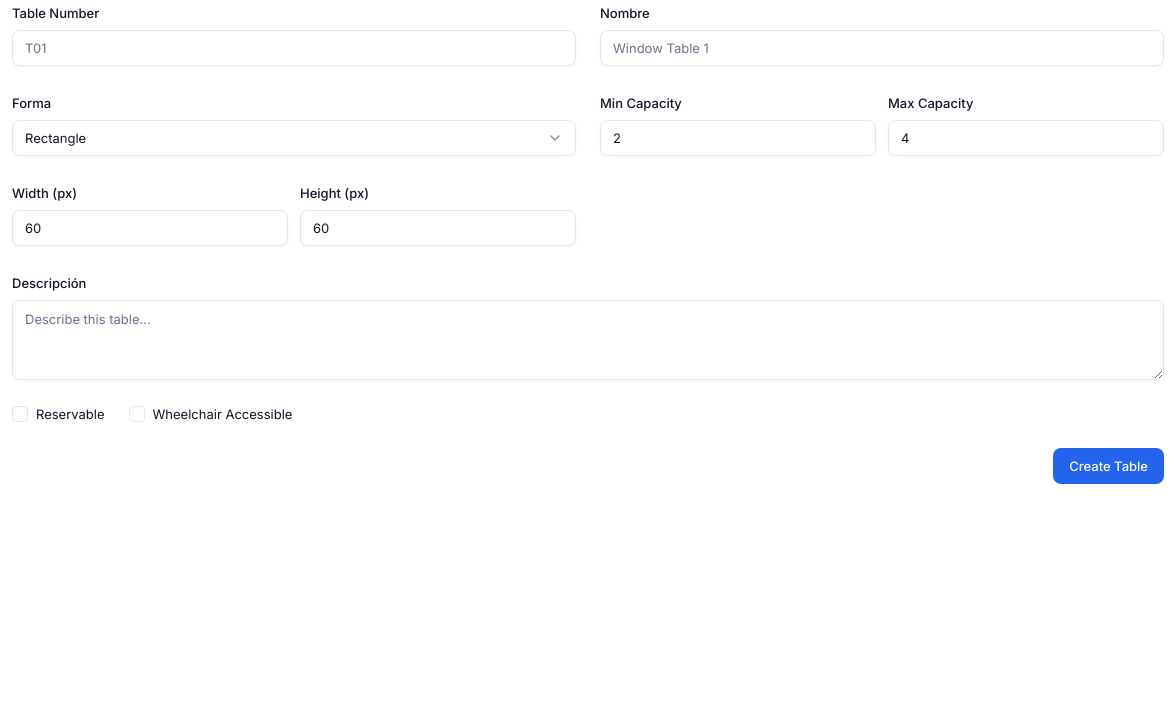
Scenario: TableForm › shows validation errors for required fields
The width and height of the screenshot is (1176, 720).
Clear the field with placeholder "T01": (294, 48) [12, 30, 576, 66]
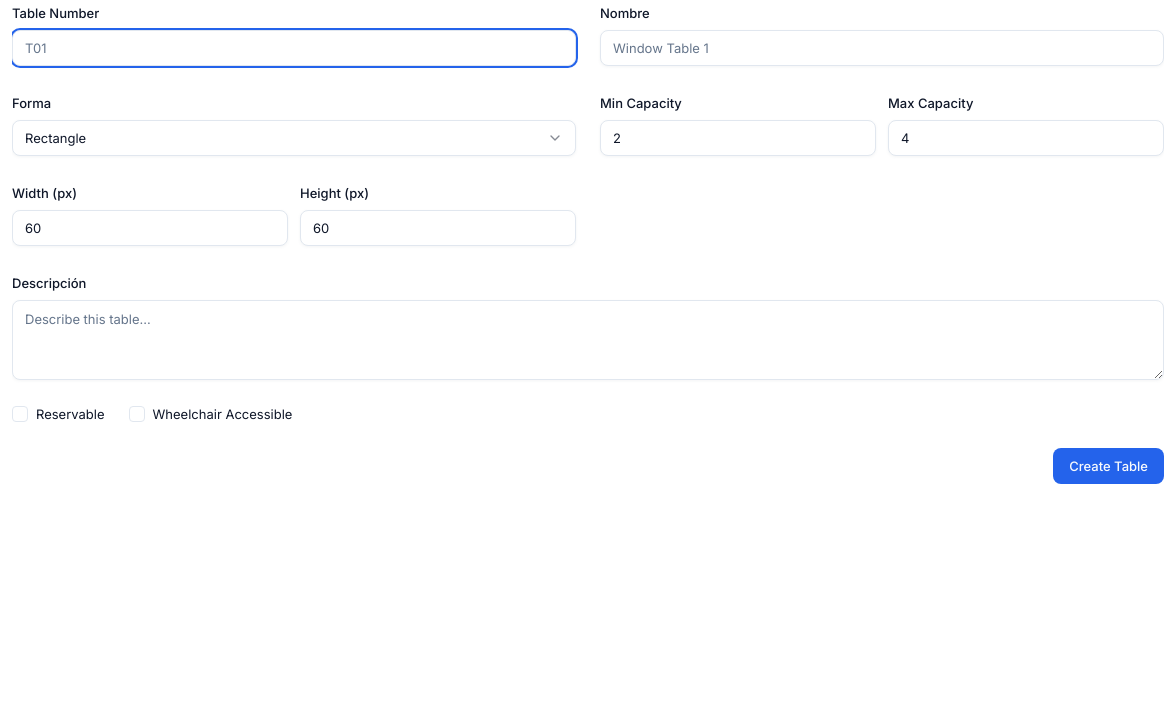
Click the button "Create Table": (1109, 466) [1053, 448, 1164, 484]
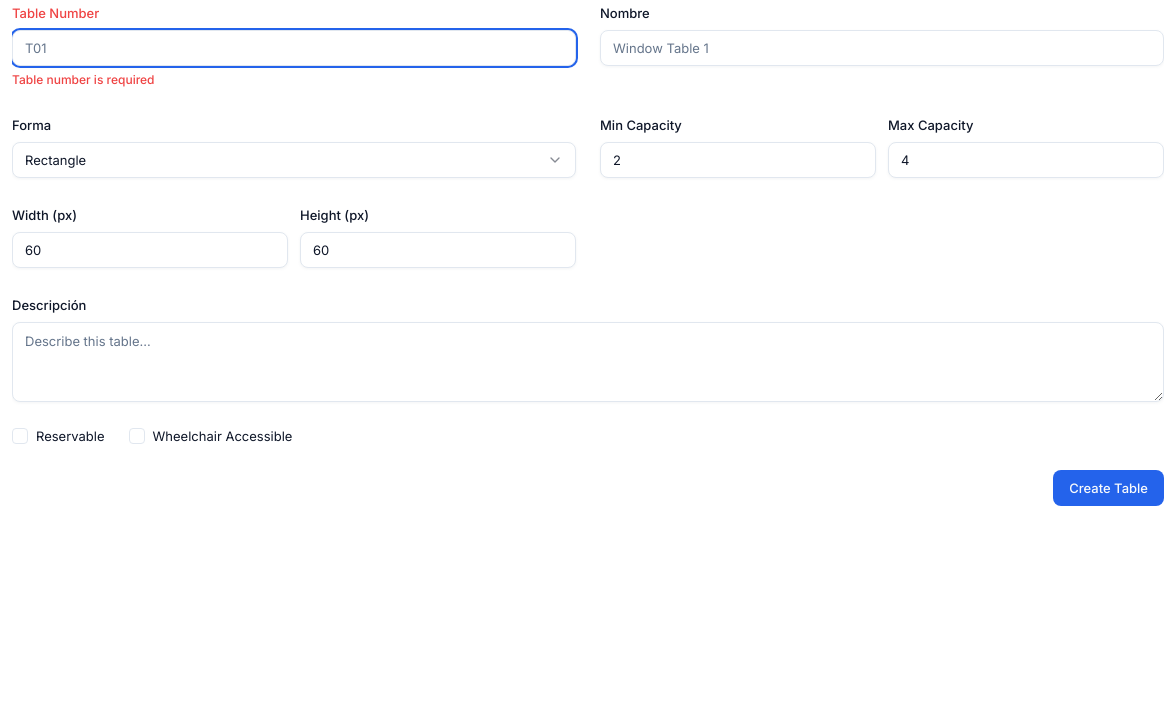
Now the text "Table number is required" is shown, box [12, 72, 154, 87]
